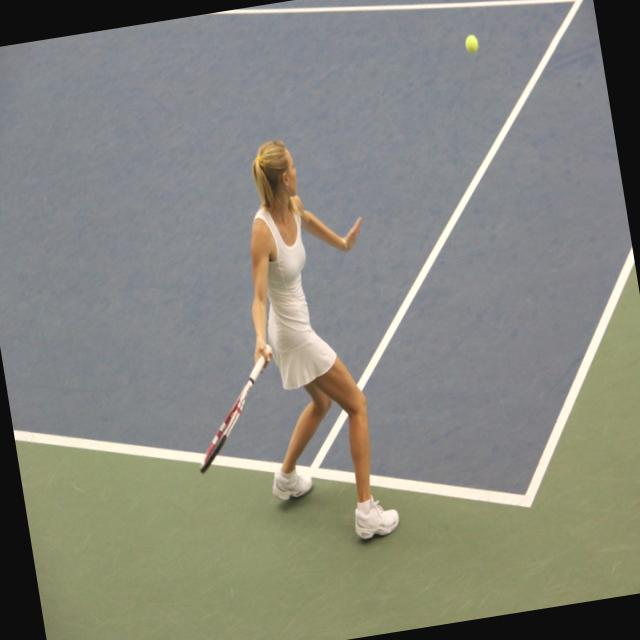Tennis Ball: (464, 34, 479, 54)
